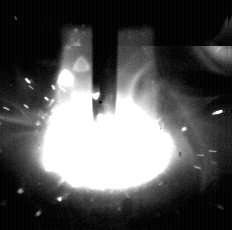arame: (93, 0, 118, 121)
poca: (42, 0, 173, 230)
